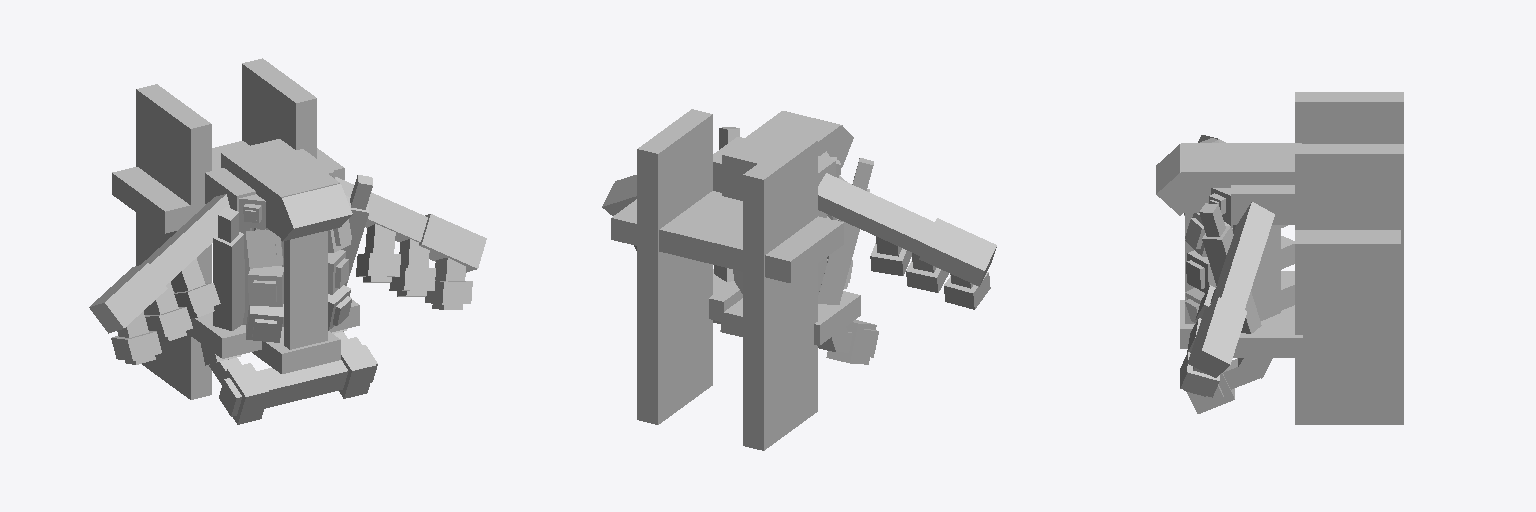
Rendered from jetpack.obj.
3 renders of one model, left to right at view 1: azimuth 30°, elevation 25°; view 2: azimuth 150°, elevation 25°; view 3: azimuth 270°, elevation 25°, orthographic.
Parts seen in each view (by area): view 1: corp, V1, wing2, wing1; view 2: V1, corp, wing2, wing1; view 3: V1, corp, wing1.
Part boxes in pixels (x1,y1,x2,y2): corp: (186,139,377,424); V1: (112,58,344,399); wing2: (89,194,229,364); wing1: (335,177,486,309); V1: (611,109,843,450); corp: (709,111,878,364); wing2: (818,173,996,309); wing1: (602,175,636,250); V1: (1295,92,1403,424); corp: (1156,138,1302,413); wing1: (1180,202,1274,397).
Size of the model in its own units: 1.83 by 1.24 by 1.02.